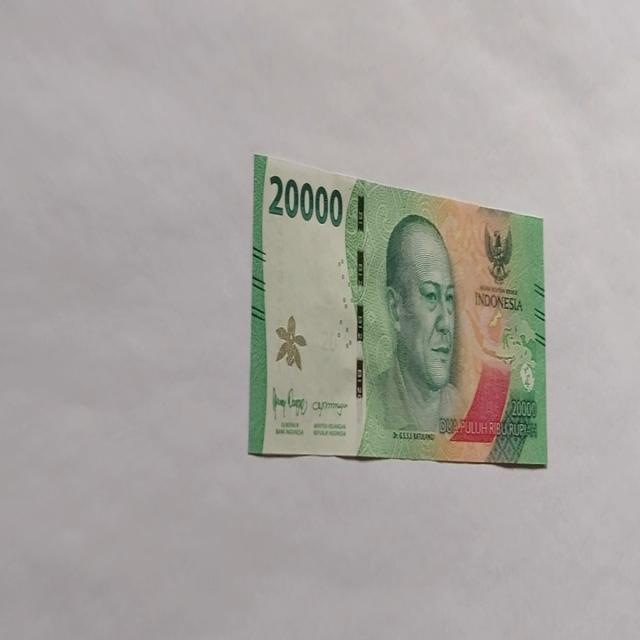dua puluh ribu rupiah: (247, 151, 547, 467)
